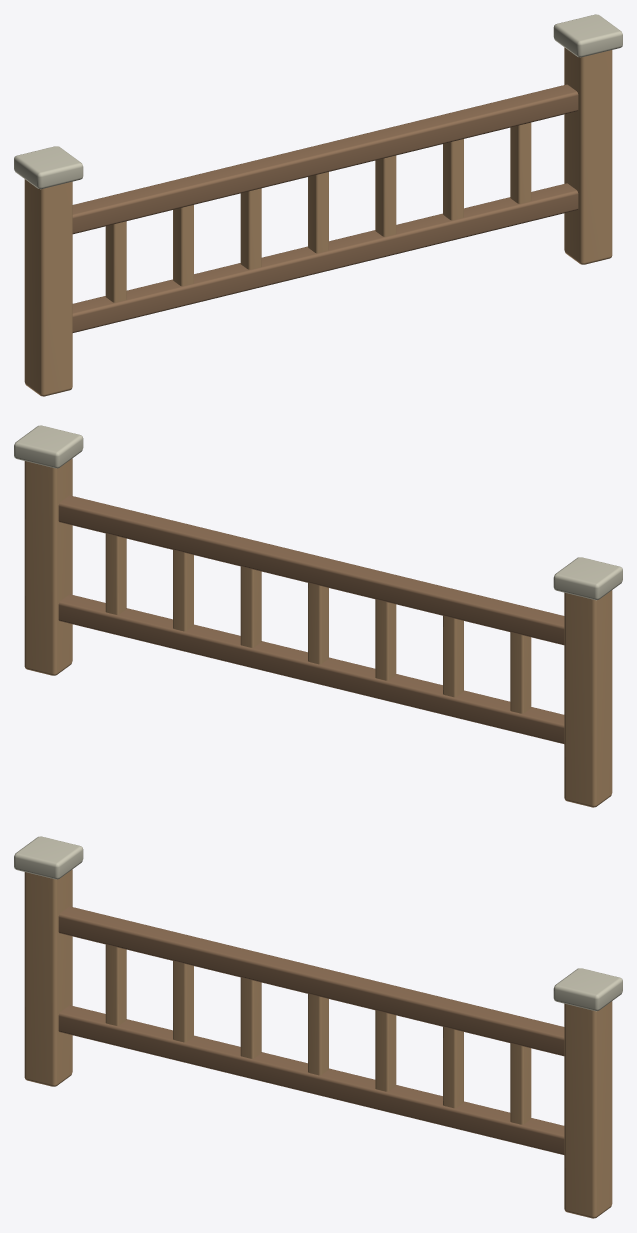
Rendered from SM_Fence_Straight_4m.fbx.
3 views of the same model, one above another, from view 1: azimuth 30°, elevation 25°; view 2: azimuth 150°, elevation 25°; view 3: azimuth 330°, elevation 25° (orthographic).
Parts seen in each view (by area): view 1: SM_Fence_Straight_4m; view 2: SM_Fence_Straight_4m; view 3: SM_Fence_Straight_4m.
Boxes of the visible parts, left/top/right/bottom form: SM_Fence_Straight_4m: left=14, top=14, right=622, bottom=396; SM_Fence_Straight_4m: left=14, top=425, right=622, bottom=807; SM_Fence_Straight_4m: left=14, top=836, right=622, bottom=1218.
Bounding box in the file's own units: 4.34 × 1.62 × 0.34.
